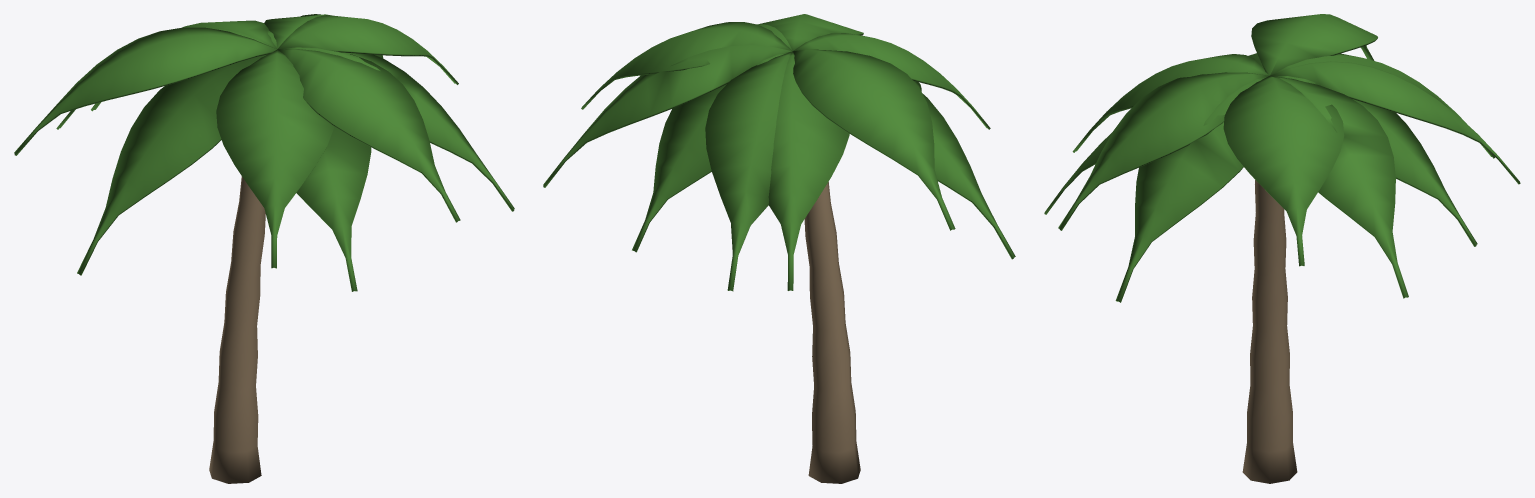
The model's file is palm_a.glb.
3 renders of one model, left to right at view 1: azimuth 30°, elevation 25°; view 2: azimuth 150°, elevation 25°; view 3: azimuth 270°, elevation 25°, orthographic.
Parts seen in each view (by area): view 1: palm_a; view 2: palm_a; view 3: palm_a.
Part boxes in pixels (x1,y1,x2,y2): palm_a: (14,14,514,483); palm_a: (543,14,1015,483); palm_a: (1044,14,1520,483).
Bounding box in the file's own units: 1.66 × 1.67 × 1.65.
